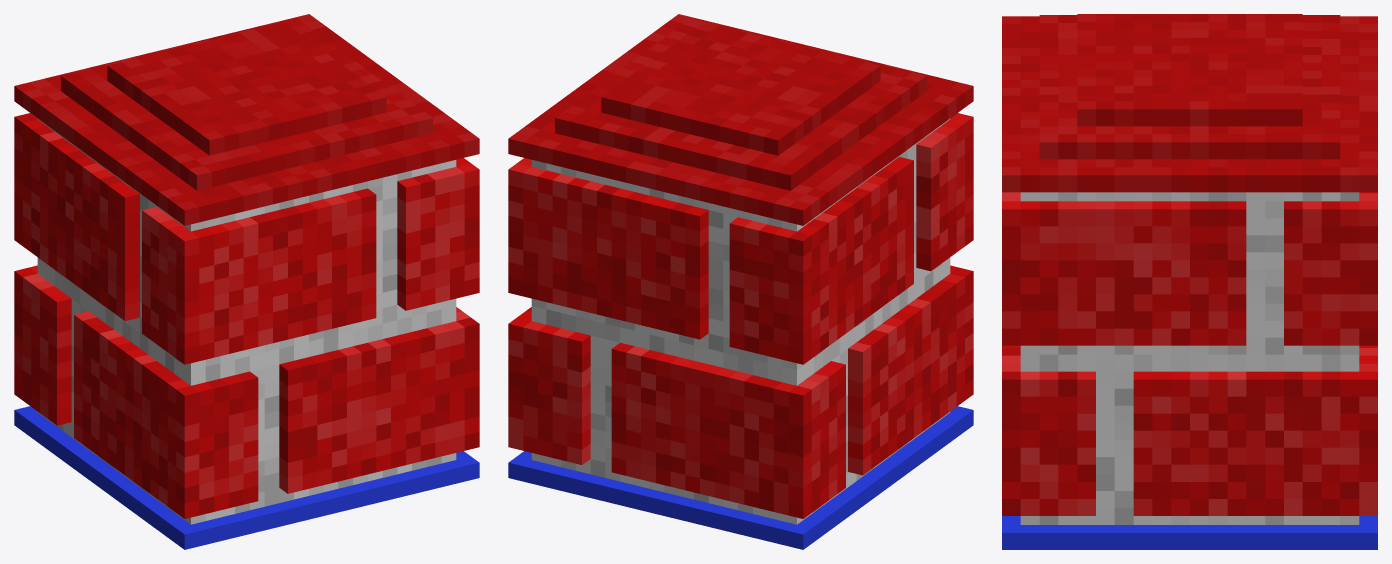
File: wall.fbx
The picture shows the model from 3 angles, left to right: view 1: azimuth 30°, elevation 25°; view 2: azimuth 150°, elevation 25°; view 3: azimuth 270°, elevation 25°; orthographic projection. The views are drawn at different scales.
Visible parts, largest first — view 1: wall, Matrix; view 2: wall, Matrix; view 3: wall, Matrix.
Boxes of the visible parts, box(x1,y1,x2,y2) form: wall: box(14, 14, 479, 524); Matrix: box(14, 406, 479, 549); wall: box(508, 14, 973, 524); Matrix: box(508, 406, 973, 549); wall: box(1002, 14, 1377, 524); Matrix: box(1002, 516, 1377, 549).
Size of the model in its own units: 20 by 24 by 20.
1 material, 1 textured.
